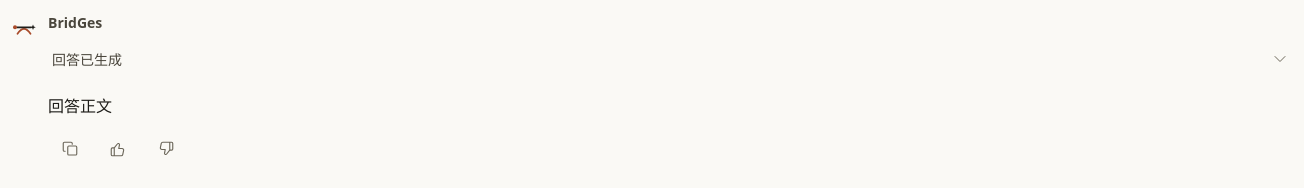
消息呈现边界（工单 02） › 复制与已有反馈行为继续可用
Click the button named "复制" at (70, 149), box [48,127,92,171]
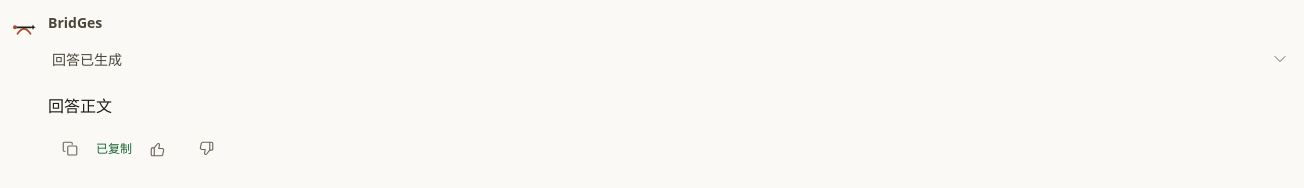
Expected: the text "已复制" is shown, [96,140,132,158]
Click the button named "回答有帮助" at (158, 149), box [136,127,180,171]
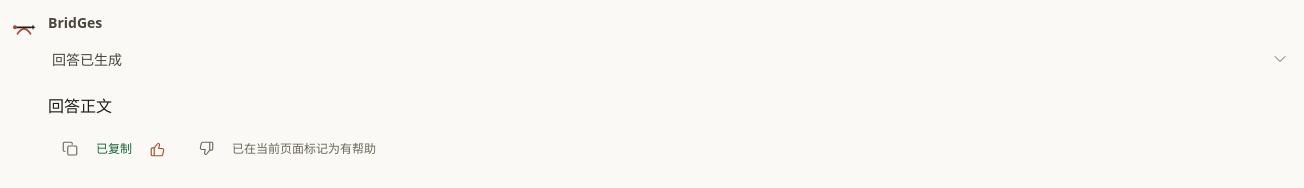
Expected: the text "已在当前页面标记为有帮助" is shown, [232,140,376,158]
